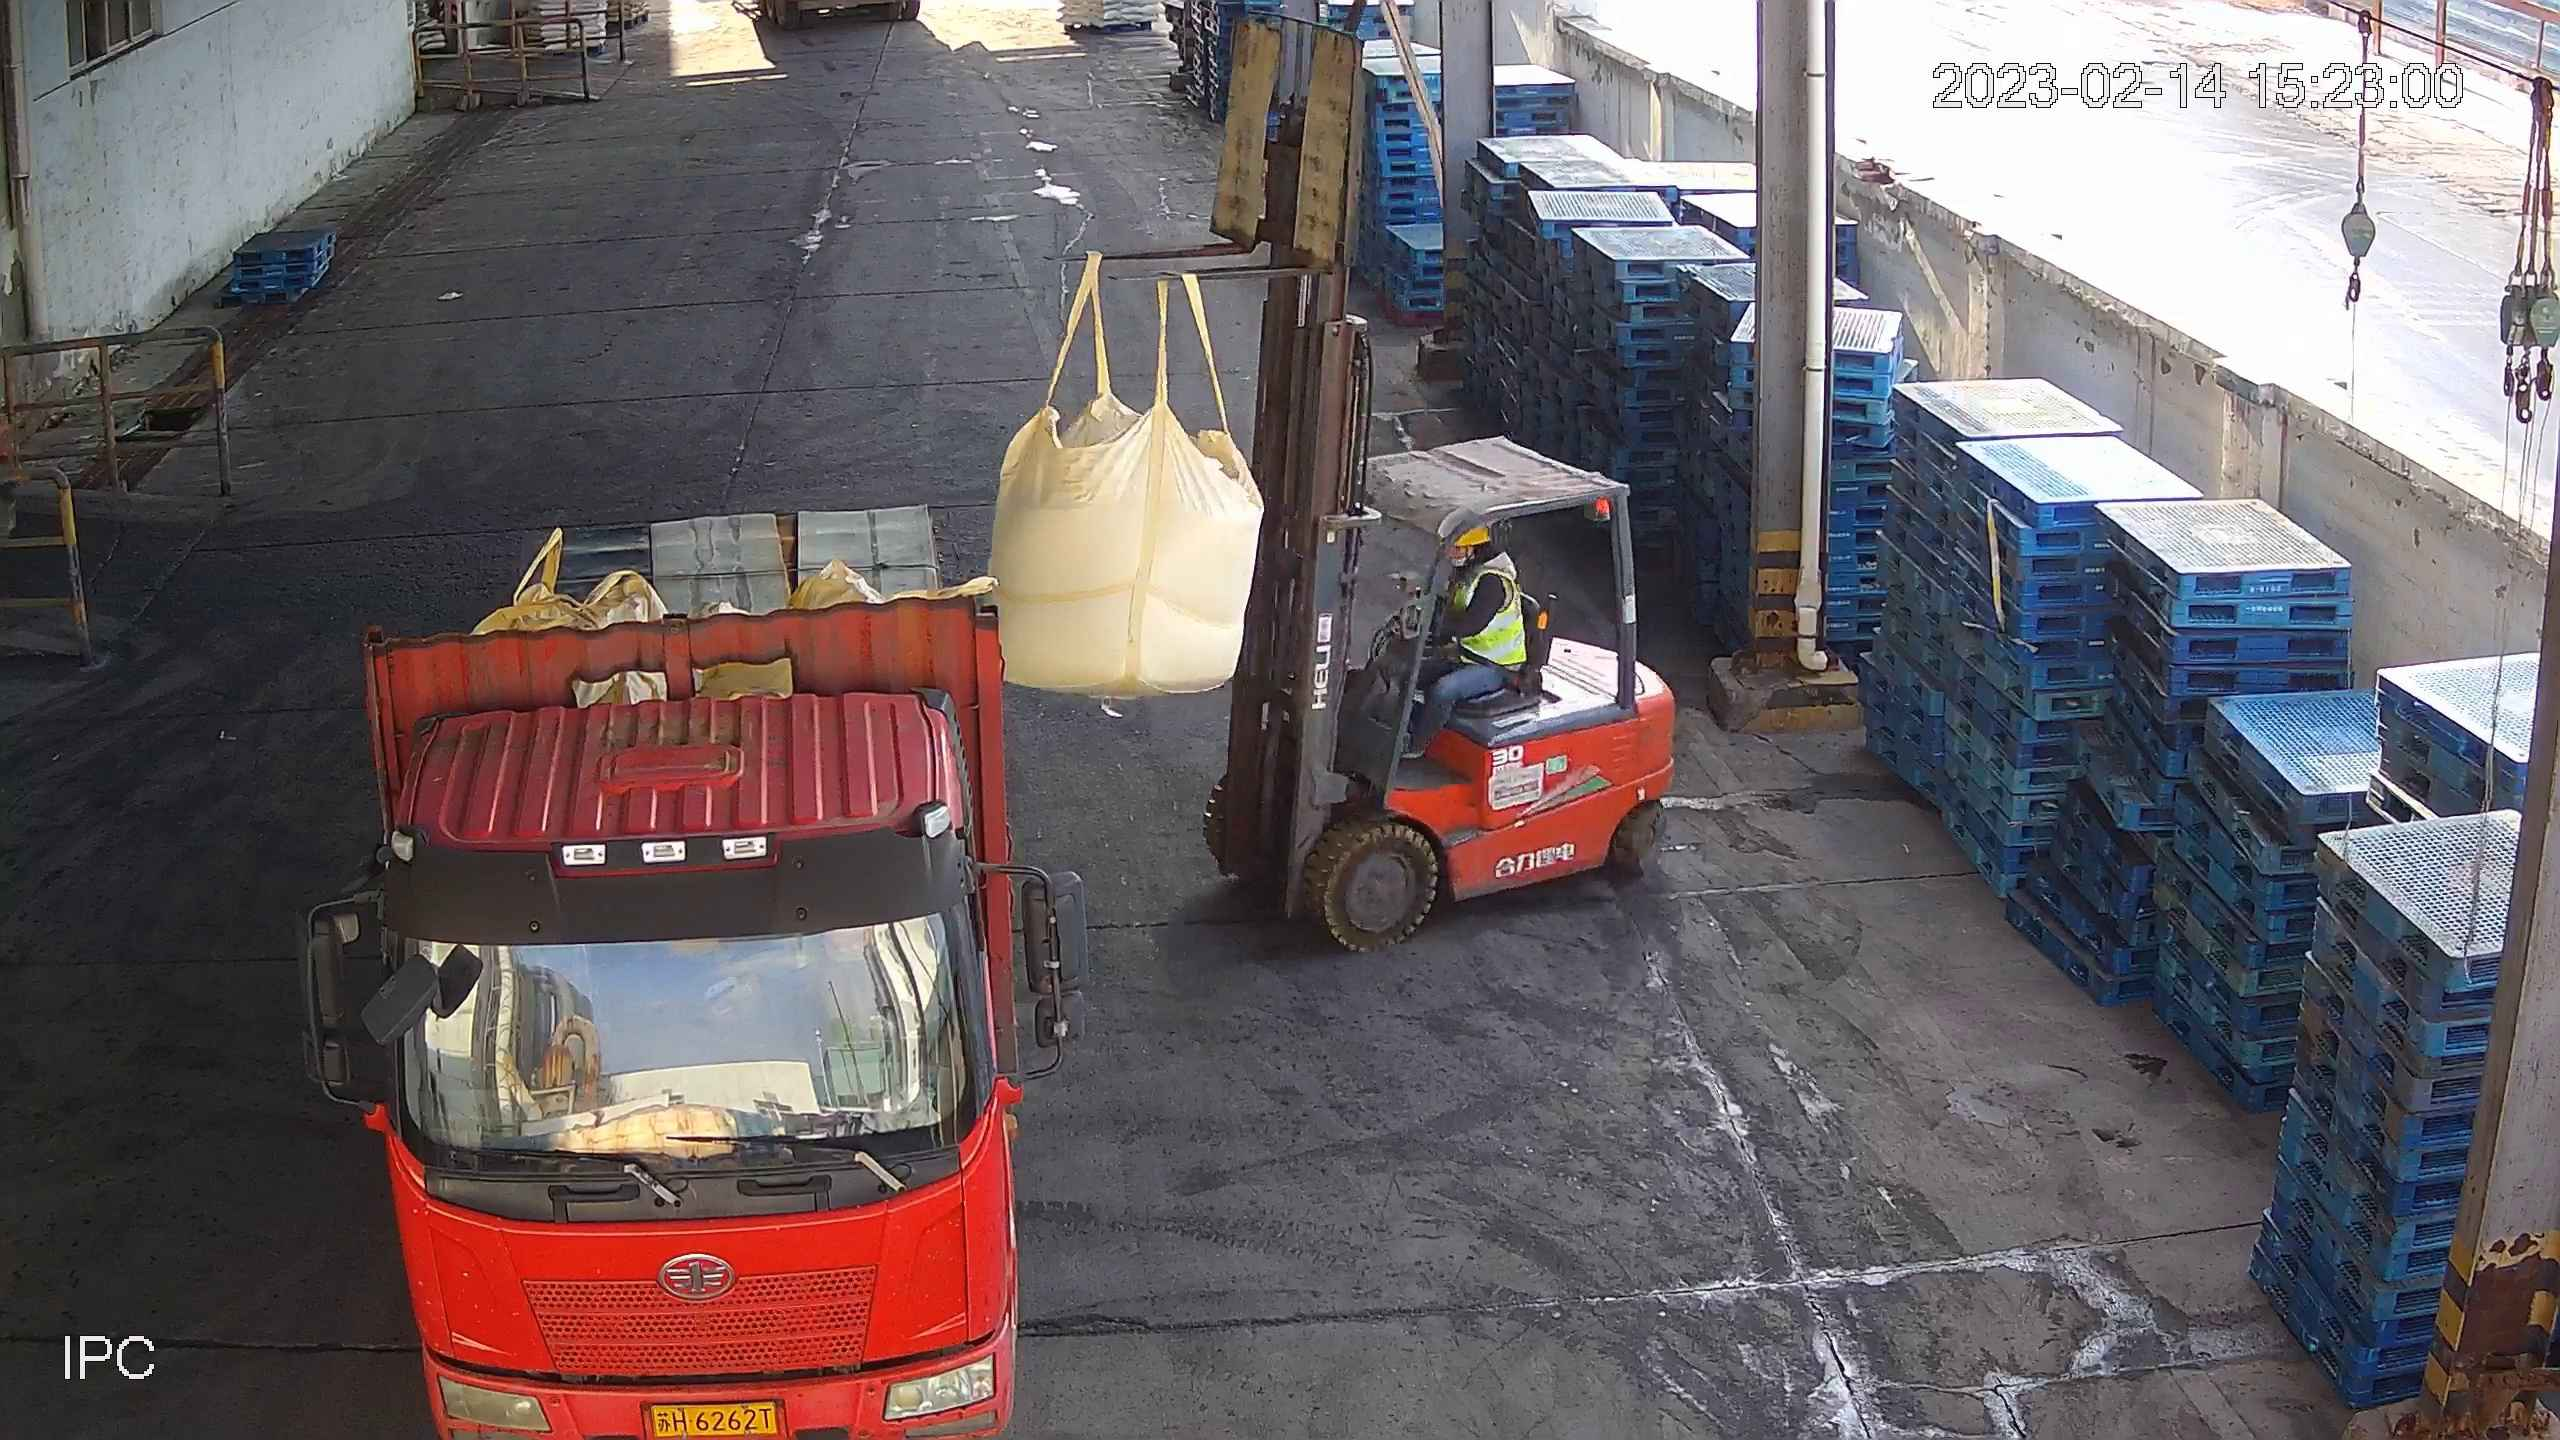head: (1438, 520, 1519, 614)
people: (1391, 521, 1527, 763)
truck: (298, 508, 1102, 1440)
